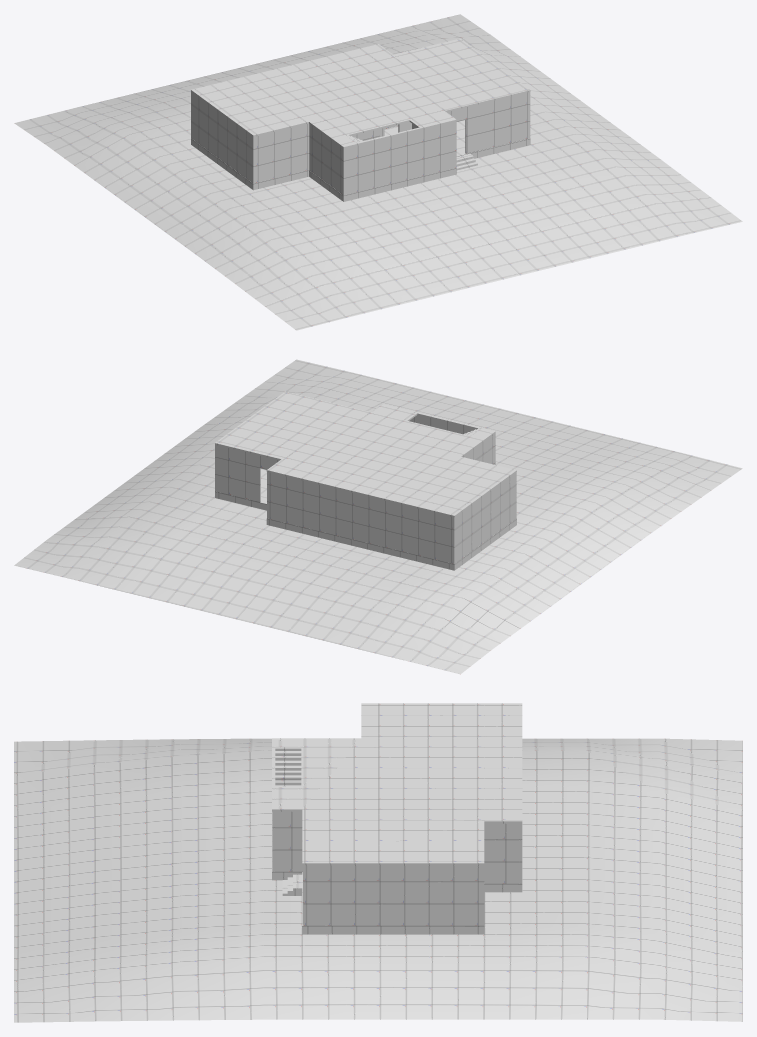
The model's file is testHouse.fbx.
The picture shows the model from 3 angles, top to bottom: view 1: azimuth 30°, elevation 25°; view 2: azimuth 150°, elevation 25°; view 3: azimuth 270°, elevation 25°; orthographic projection. The views are drawn at different scales.
Visible parts, largest first — view 1: Testhouse_ground, Testhouse_0010; view 2: Testhouse_ground, Testhouse_0010; view 3: Testhouse_ground, Testhouse_0010, Testhouse_023.
Boxes of the visible parts, x1,y1,x2,y2 form: Testhouse_ground: (14,14,742,330); Testhouse_0010: (191,38,530,201); Testhouse_ground: (14,359,742,674); Testhouse_0010: (215,391,516,570); Testhouse_ground: (14,738,742,1022); Testhouse_0010: (272,703,522,934); Testhouse_023: (275,747,301,786).
Size of the model in its own units: 2621 by 417 by 2872.
